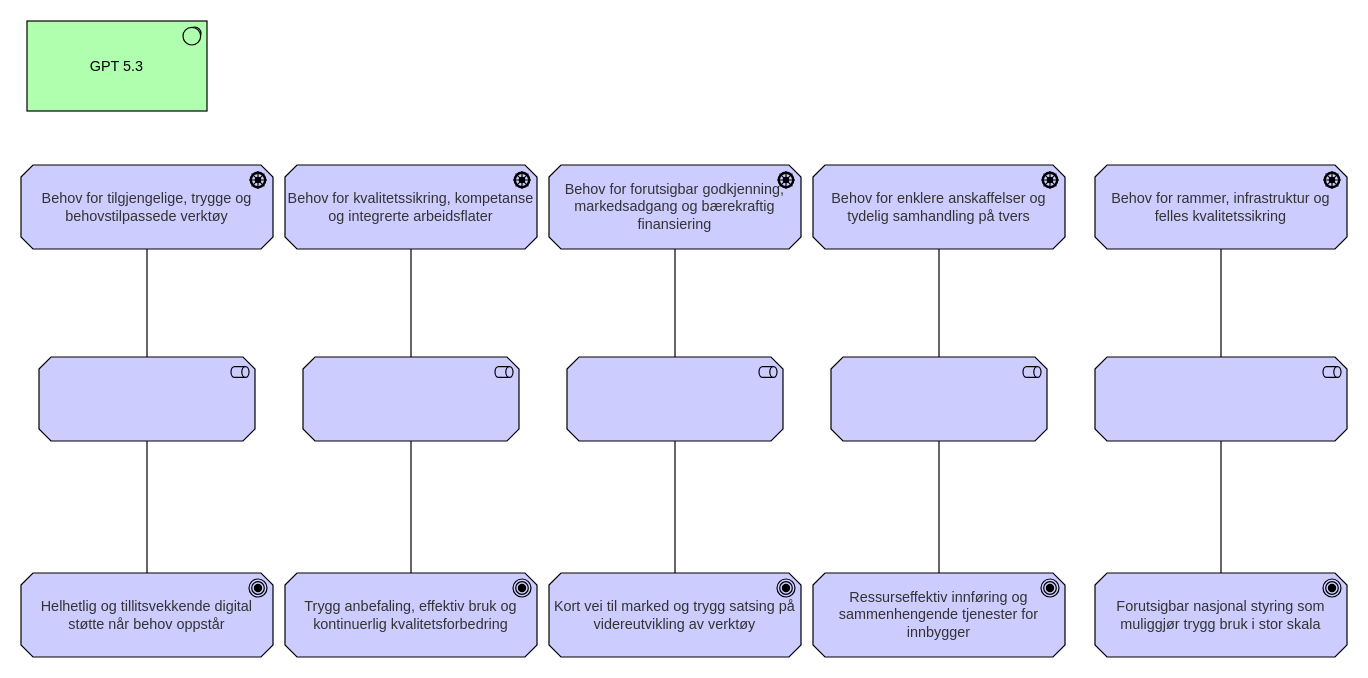
Some shapes in this 1368 by 678 pixel diagram are drawn without their labels. The centre of each missing label's shape, as x and y in pixels:
Helsepersonell: point 410,398
Helsevirksomheter: point 938,398
Innbyggere: point 146,398
Leverandører: point 674,398
Myndigheter og nasjonal tjenesteleverandør: point 1220,398
